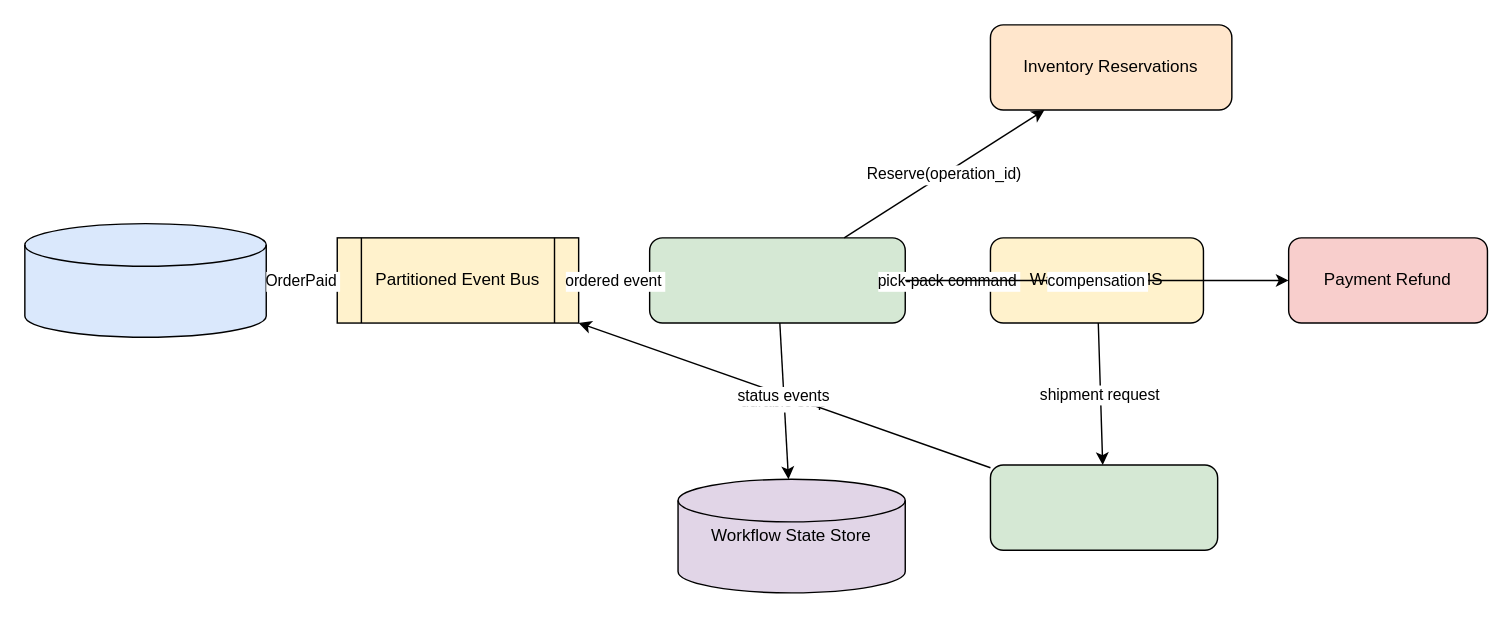
The diagram is 1512 pixels wide and 618 high, and some of its shapes have lost their labels. Here are the shapes that lost their labels. From the top down, the centre of each, then its label:
At (x=144, y=279): "Order Service + Outbox".
At (x=776, y=279): "Fulfillment Orchestrator".
At (x=1103, y=507): "Carrier / Shipment".
